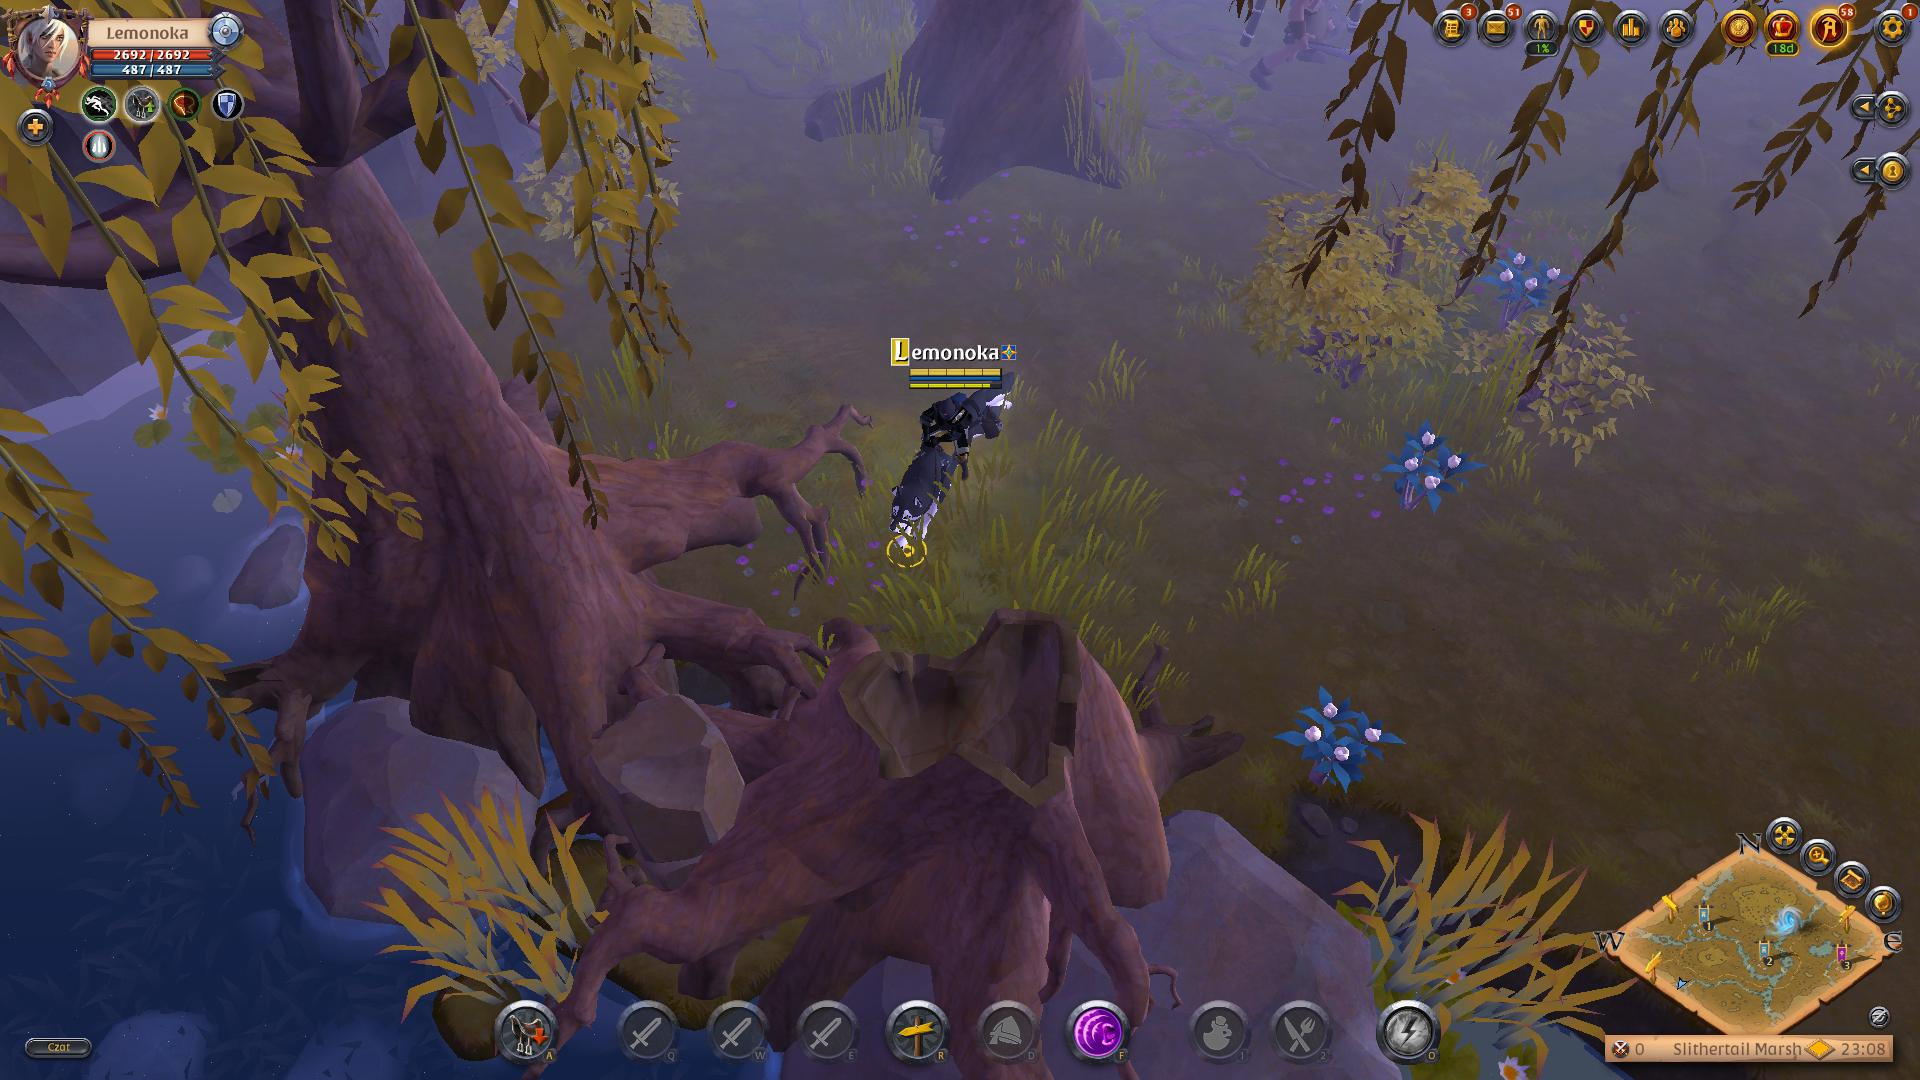fiber tier 4: (1271, 682, 1408, 798), (1377, 413, 1486, 518), (1478, 240, 1575, 330)
